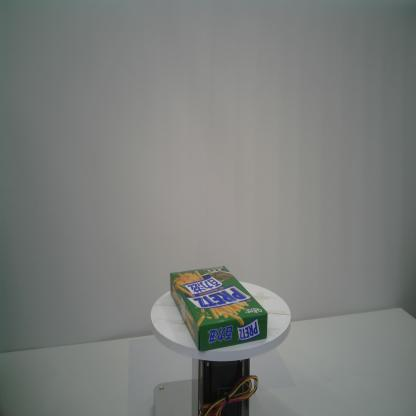Dessert: (169, 265, 268, 353)
